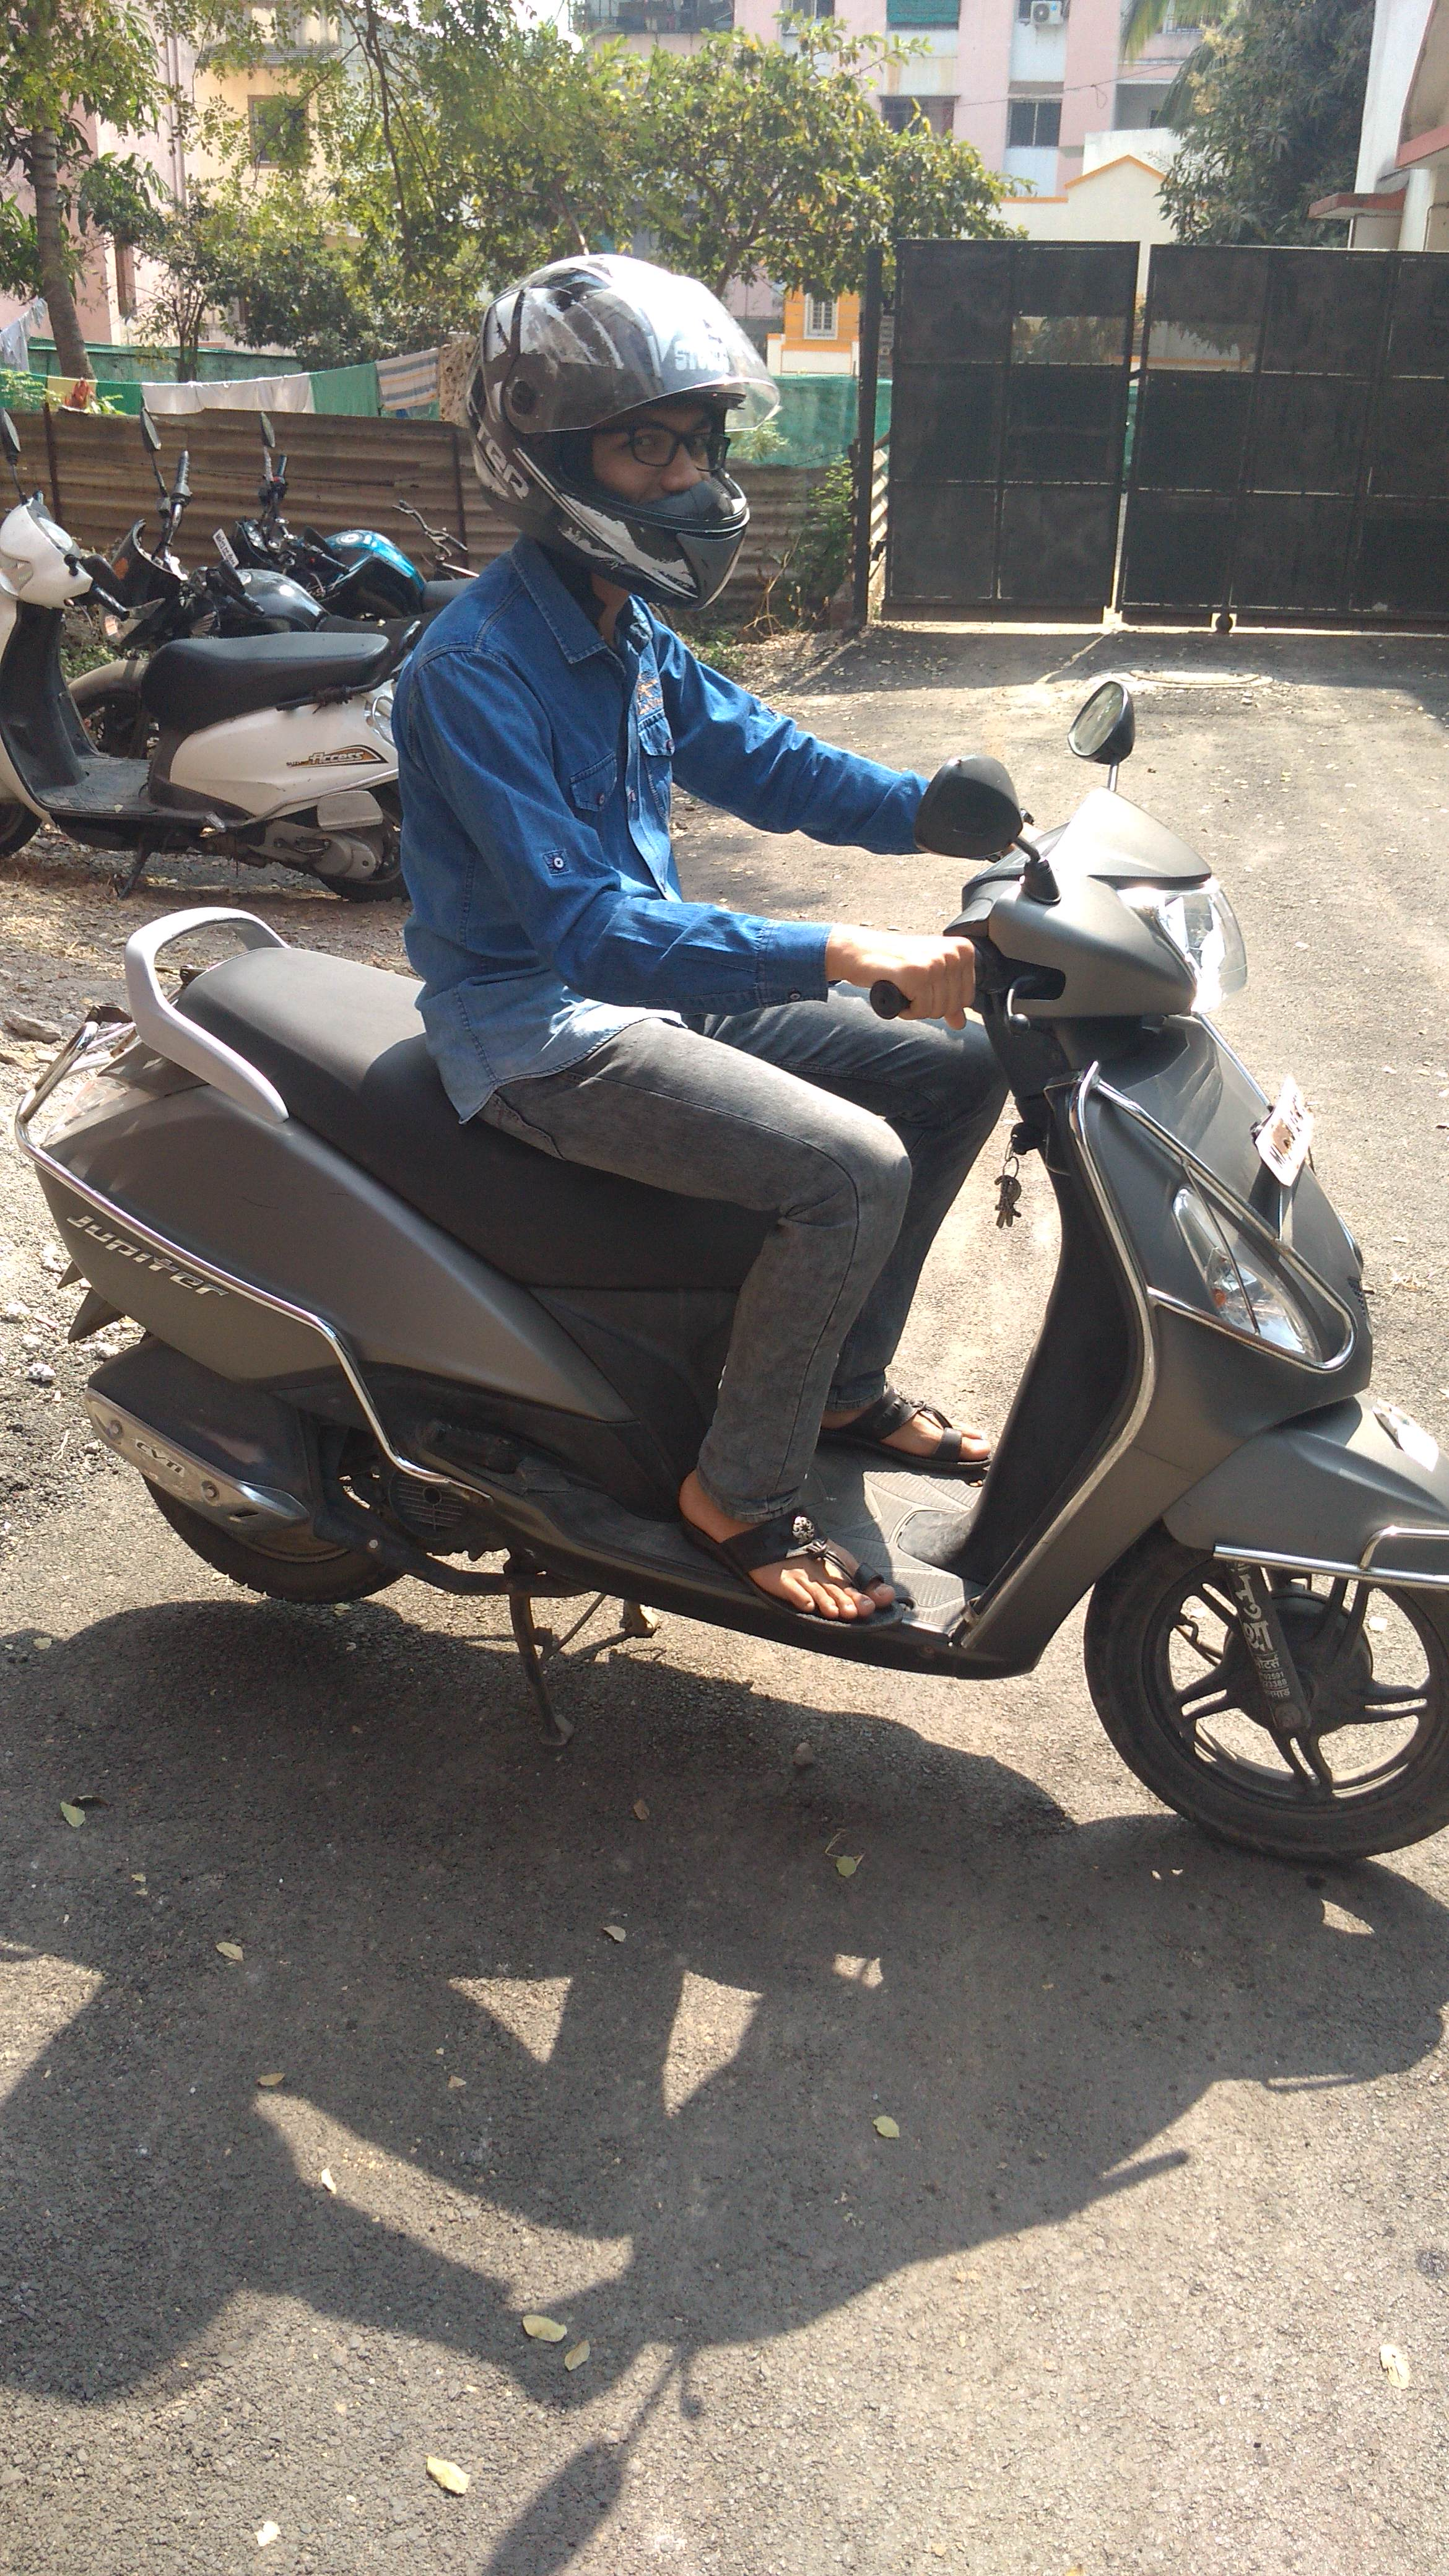helmet: (329, 195, 1100, 1635)
